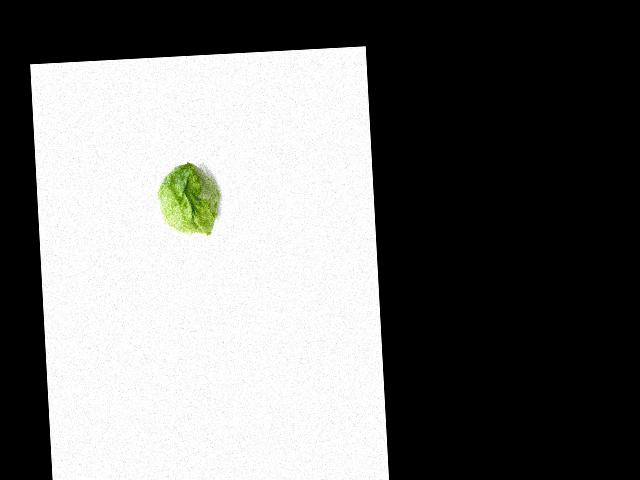lettuce: (151, 161, 225, 237)
